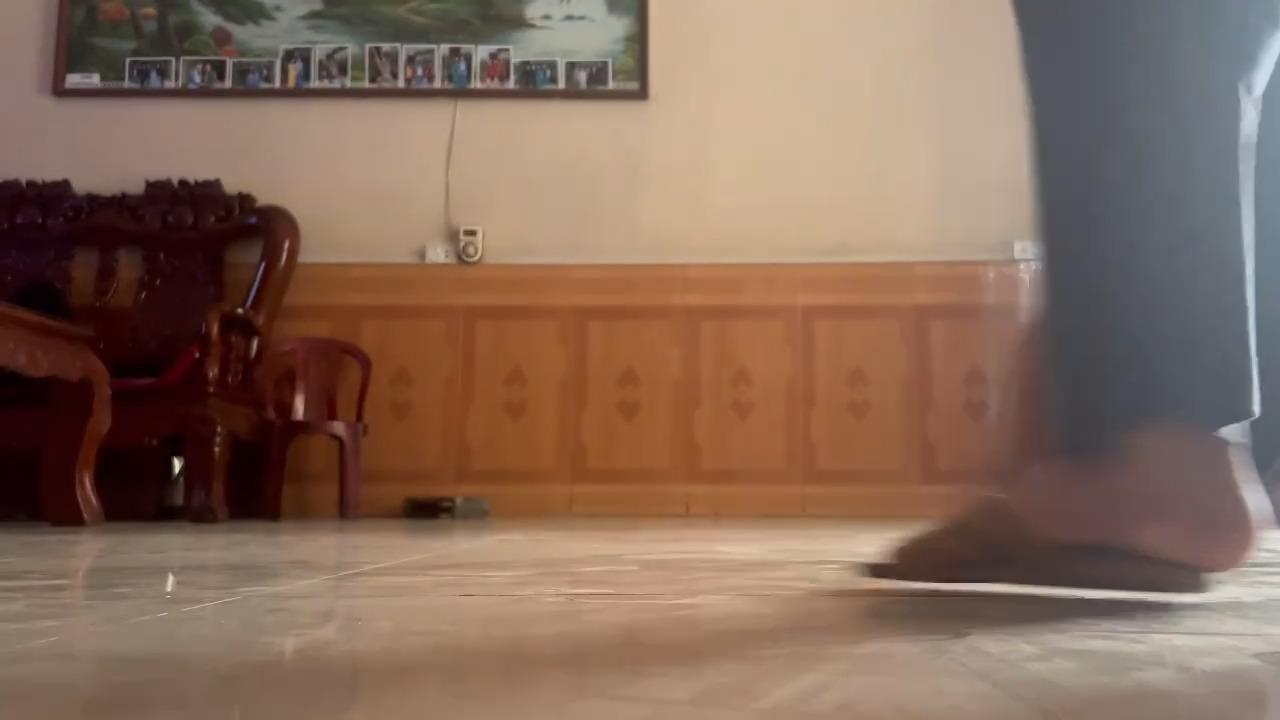no-boot: (853, 455, 1261, 604)
